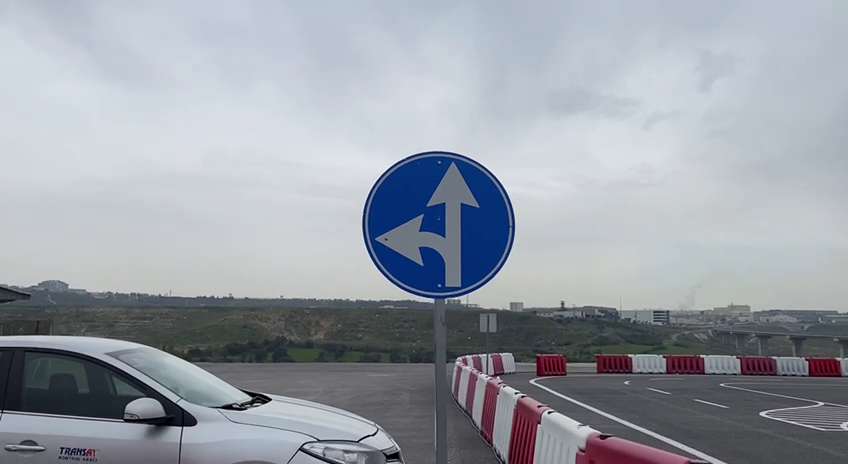forwardAndLeft: (361, 149, 519, 301)
